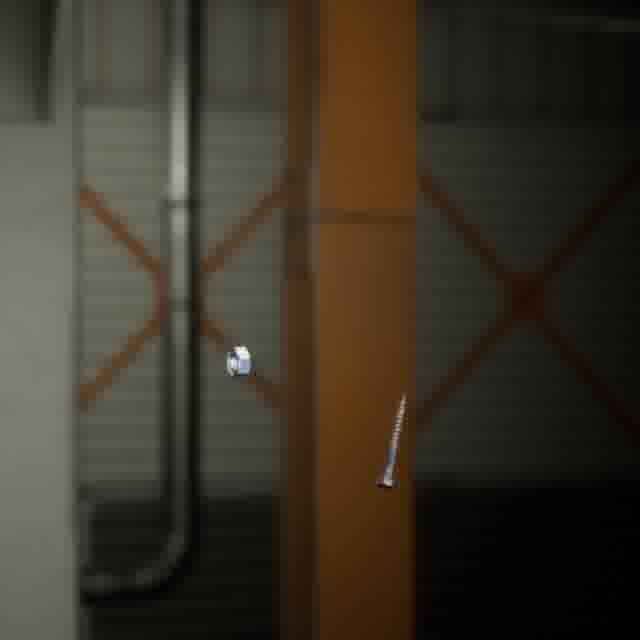bolt: (370, 391, 411, 493)
nut: (222, 342, 255, 381)
